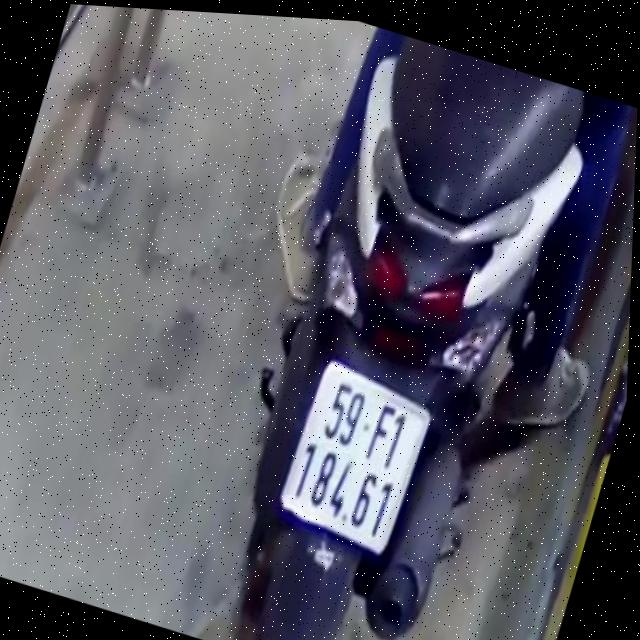motorcycle: (175, 23, 592, 640)
plate: (263, 349, 442, 564)
